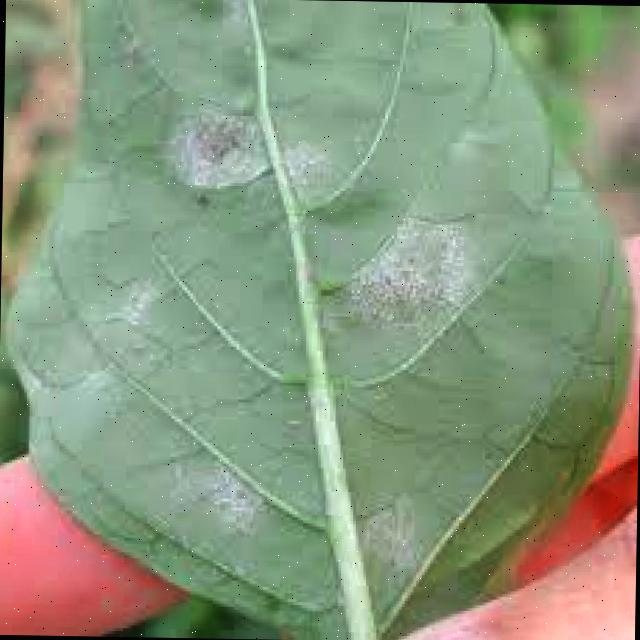whitefly: (11, 0, 612, 640)
